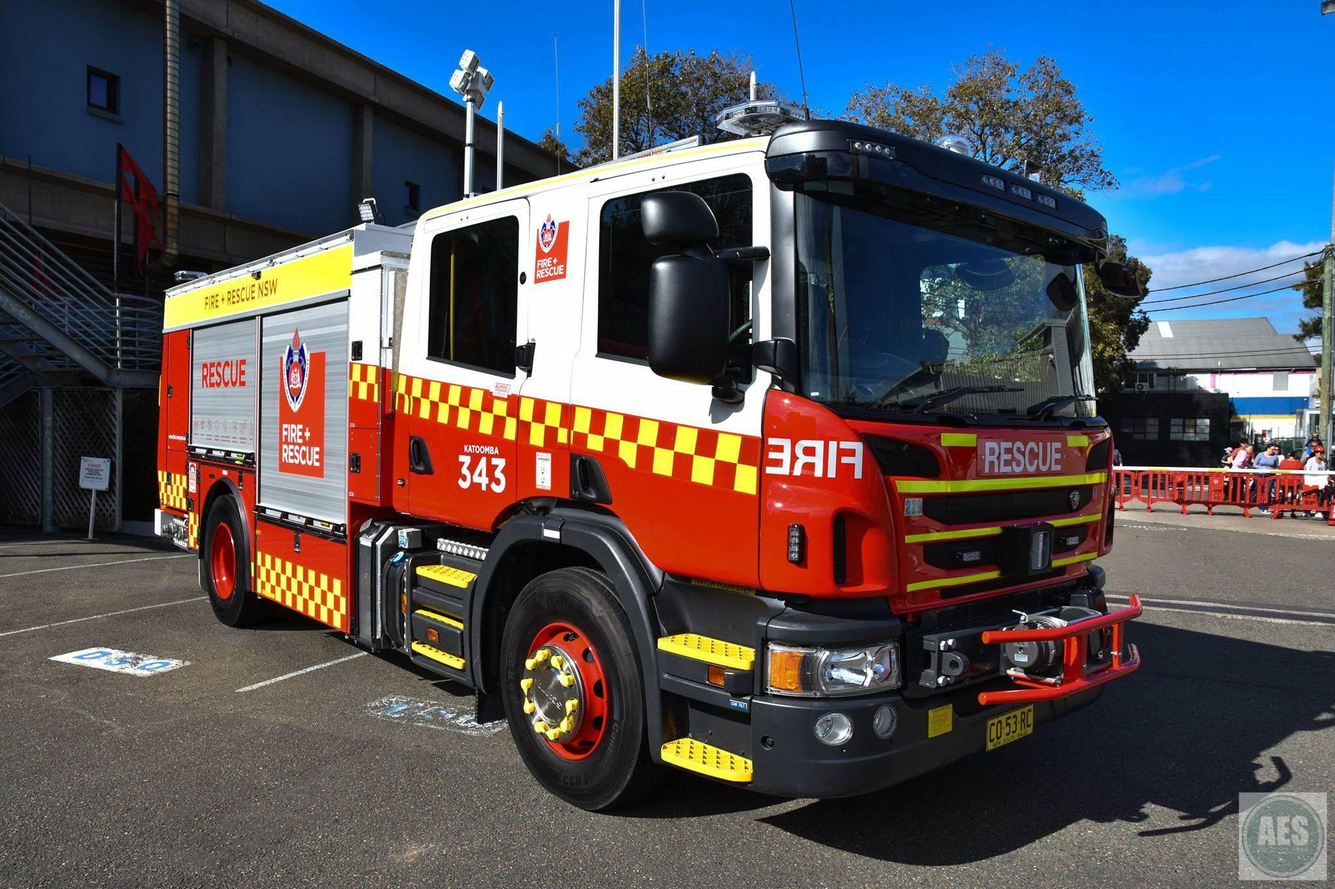Fire-engine: (153, 72, 1145, 813)
